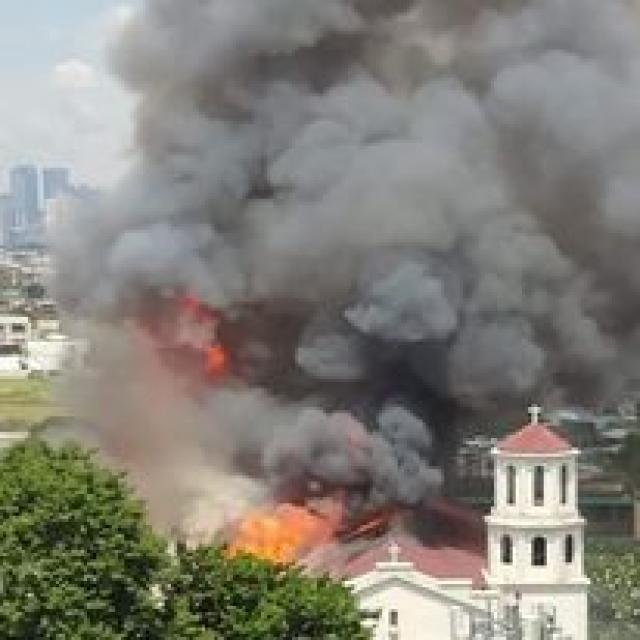Fire: (222, 504, 314, 574), (173, 295, 235, 385)
Smoke: (57, 4, 640, 386), (264, 398, 442, 508)
